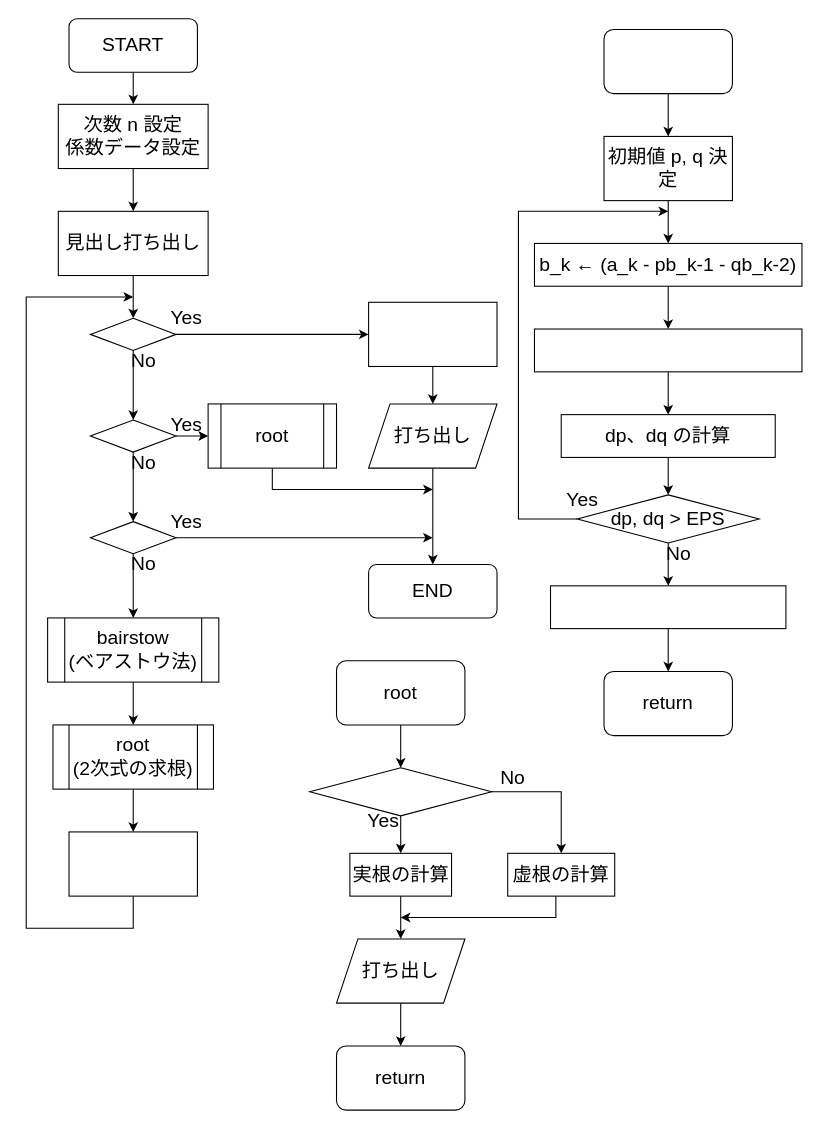
Some shapes in this 821 by 1129 pixel diagram are drawn without their labels. Each missing label, with the centre of its shape:
"1次式の求根" goes at (x=432, y=333).
"bairstow" goes at (x=667, y=61).
"c_k ← (b_k - pc_k-1 - qc_k-2)" goes at (x=667, y=350).
"n = 0" goes at (x=132, y=537).
"n = 1" goes at (x=132, y=333).
"n = 2" goes at (x=132, y=435).
"n ← n - 2" goes at (x=132, y=863).
"p^2 - 4q >= 0" goes at (x=400, y=791).
"配列 a へ配列 b 取り込み" goes at (x=667, y=607).
